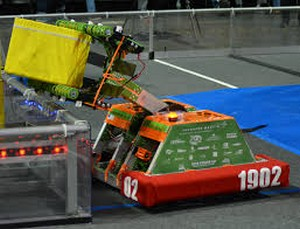cube: (11, 17, 86, 86)
